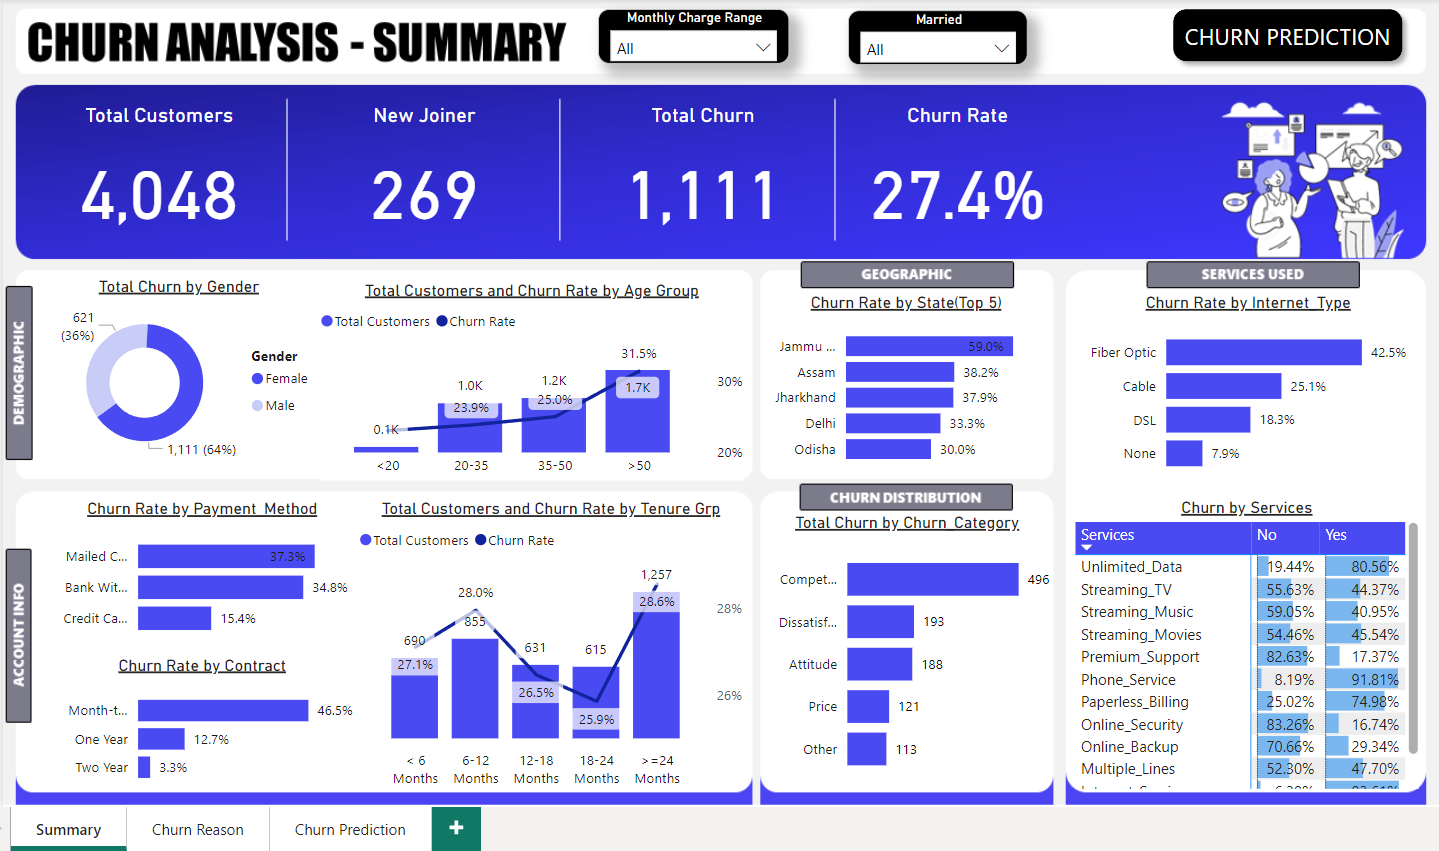

The page's visual inventory and layout, read from the dashboard file:
{"tool":"powerbi","page":{"name":"Summary","canvas":[1280,720],"ordinal":0},"visuals":[{"type":"image","box":[91.7,310.1,76,60.3],"z":0},{"type":"card","title":"Total Customers","fields":{"Values":["tbl_measures.Total Customers"]},"box":[31.4,92.9,216,127.9],"z":1000},{"type":"card","title":"New Joiner","fields":{"Values":["tbl_measures.New Joiners"]},"box":[259.4,92.9,231.6,127.9],"z":2000},{"type":"card","title":"Total Churn","fields":{"Values":["tbl_measures.Total Churn"]},"box":[513.9,92.9,218.4,127.9],"z":3000},{"type":"card","title":"Churn Rate","fields":{"Values":["tbl_measures.Churn Rate"]},"box":[752.8,92.9,195.4,127.9],"z":4000},{"type":"lineStackedColumnComboChart","fields":{"Category":["Mapping_AgeGrp.Age Group"],"Y":["tbl_measures.Total Customers"],"Y2":["tbl_measures.Churn Rate"]},"box":[282.3,250.9,376.4,178.6],"z":5000},{"type":"barChart","fields":{"Category":["prod_Churn.Payment_Method"],"Y":["tbl_measures.Churn Rate"]},"box":[42.2,445.2,270.2,129.1],"z":6000},{"type":"barChart","fields":{"Category":["prod_Churn.Contract"],"Y":["tbl_measures.Churn Rate"]},"box":[42.2,583.9,270.2,120.6],"z":7000},{"type":"lineStackedColumnComboChart","fields":{"Category":["mapping_TenureGrp.Tenure Grp"],"Y":["tbl_measures.Total Customers"],"Y2":["tbl_measures.Churn Rate"]},"box":[317.3,445.2,341.4,259.4],"z":8000},{"type":"clusteredBarChart","title":"Churn Rate by State(Top 5)","fields":{"Category":["prod_Churn.State"],"Y":["tbl_measures.Churn Rate"]},"box":[675.6,261.8,257,158],"z":9000},{"type":"clusteredBarChart","fields":{"Category":["prod_Churn.Churn_Category"],"Y":["tbl_measures.Total Churn"]},"box":[678,457.2,254.6,241.3],"z":10000},{"type":"clusteredBarChart","fields":{"Category":["prod_Churn.Internet_Type"],"Y":["tbl_measures.Churn Rate"]},"box":[962.7,261.8,292,167.7],"z":11000},{"type":"pivotTable","title":"Churn by Services","fields":{"Rows":["prod_Services.Services"],"Columns":["prod_Services.Status"],"Values":["Sum(prod_Services.Churn status)"]},"box":[955.5,444,305.2,259.4],"z":12000},{"type":"slicer","title":"Monthly Charge Range","fields":{"Values":["prod_Churn.Monthly Charge Status"]},"box":[529.7,9.1,170.3,48.8],"z":13000},{"type":"slicer","title":"Married","fields":{"Values":["prod_Churn.Married"]},"box":[752.6,9.6,160.3,48.8],"z":14000},{"type":"donutChart","fields":{"Category":["prod_Churn.Gender"],"Y":["tbl_measures.Total Churn"]},"box":[31.4,247.3,250.9,167.7],"z":15000},{"type":"shape","box":[1033.3,0,222.3,64.5],"z":16000}]}

Visuals, with their boxes on the page's 1280x720 design canvas (x1, y1, x2, y2). These are canvas units, not pixel positions in the 1439x851 screenshot, which may show the page scaled, cropped or inside an application window:
image: [left=92, top=310, right=168, bottom=370]
"Total Customers" card: [left=31, top=93, right=247, bottom=221]
"New Joiner" card: [left=259, top=93, right=491, bottom=221]
"Total Churn" card: [left=514, top=93, right=732, bottom=221]
"Churn Rate" card: [left=753, top=93, right=948, bottom=221]
lineStackedColumnComboChart - Mapping_AgeGrp.Age Group x tbl_measures.Total Customers: [left=282, top=251, right=659, bottom=430]
barChart - prod_Churn.Payment_Method x tbl_measures.Churn Rate: [left=42, top=445, right=312, bottom=574]
barChart - prod_Churn.Contract x tbl_measures.Churn Rate: [left=42, top=584, right=312, bottom=704]
lineStackedColumnComboChart - mapping_TenureGrp.Tenure Grp x tbl_measures.Total Customers: [left=317, top=445, right=659, bottom=705]
"Churn Rate by State(Top 5)" clusteredBarChart: [left=676, top=262, right=933, bottom=420]
clusteredBarChart - prod_Churn.Churn_Category x tbl_measures.Total Churn: [left=678, top=457, right=933, bottom=698]
clusteredBarChart - prod_Churn.Internet_Type x tbl_measures.Churn Rate: [left=963, top=262, right=1255, bottom=430]
"Churn by Services" pivotTable: [left=956, top=444, right=1261, bottom=703]
"Monthly Charge Range" slicer: [left=530, top=9, right=700, bottom=58]
"Married" slicer: [left=753, top=10, right=913, bottom=58]
donutChart - prod_Churn.Gender x tbl_measures.Total Churn: [left=31, top=247, right=282, bottom=415]
shape: [left=1033, top=0, right=1256, bottom=64]
